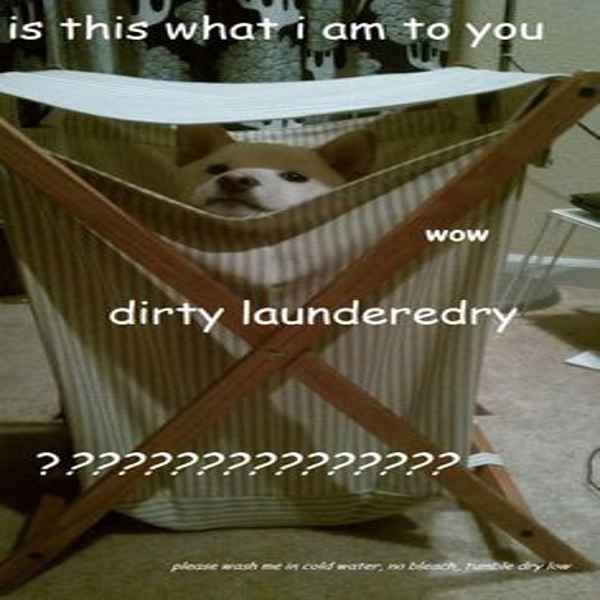doge: (159, 120, 372, 238)
